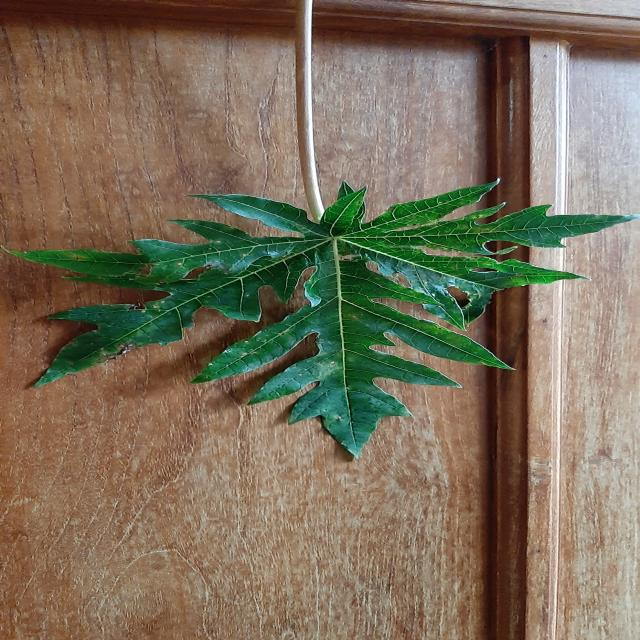papaya: (11, 182, 634, 455)
